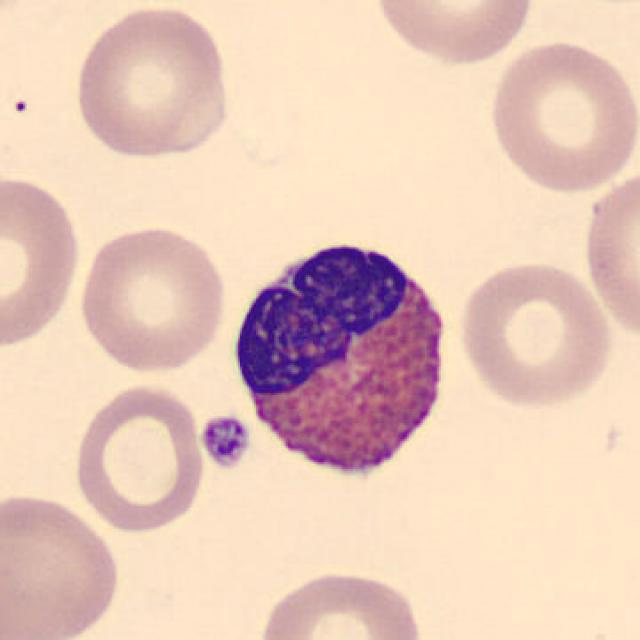Eosinophil: (220, 220, 462, 504)
Platelets: (197, 411, 251, 472)
RBC: (69, 2, 233, 162), (453, 255, 617, 410), (484, 35, 638, 196), (73, 220, 229, 376), (69, 379, 208, 536), (0, 488, 124, 639), (0, 168, 84, 354), (251, 566, 428, 640), (368, 0, 539, 69), (580, 160, 638, 346), (542, 0, 638, 16)
